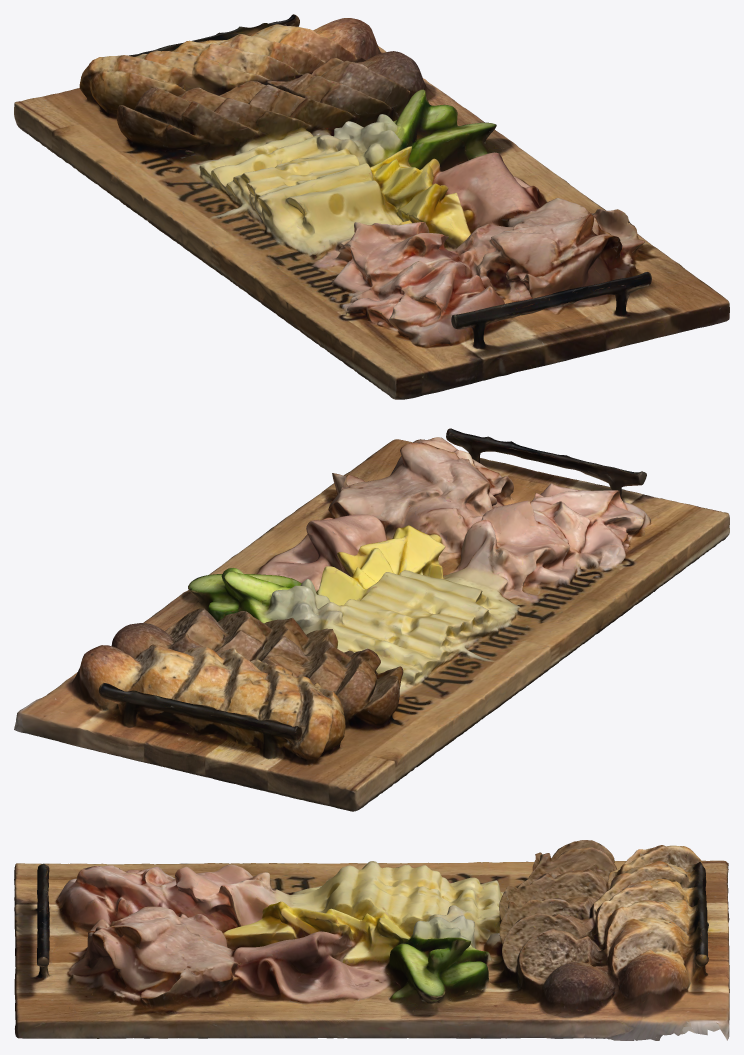
Rendered from daska.glb.
3 renders of one model, top to bottom at view 1: azimuth 30°, elevation 25°; view 2: azimuth 150°, elevation 25°; view 3: azimuth 270°, elevation 25°, orthographic. The views are drawn at different scales.
Visible parts, largest first — view 1: FoodAR; view 2: FoodAR; view 3: FoodAR.
Boxes of the visible parts, left/top/right/bottom form: FoodAR: left=14, top=14, right=729, bottom=399; FoodAR: left=14, top=428, right=729, bottom=811; FoodAR: left=14, top=840, right=729, bottom=1040.
Size of the model in its own units: 0.3242 by 0.07 by 0.6198.
Materials: 1 (1 with a texture image).
